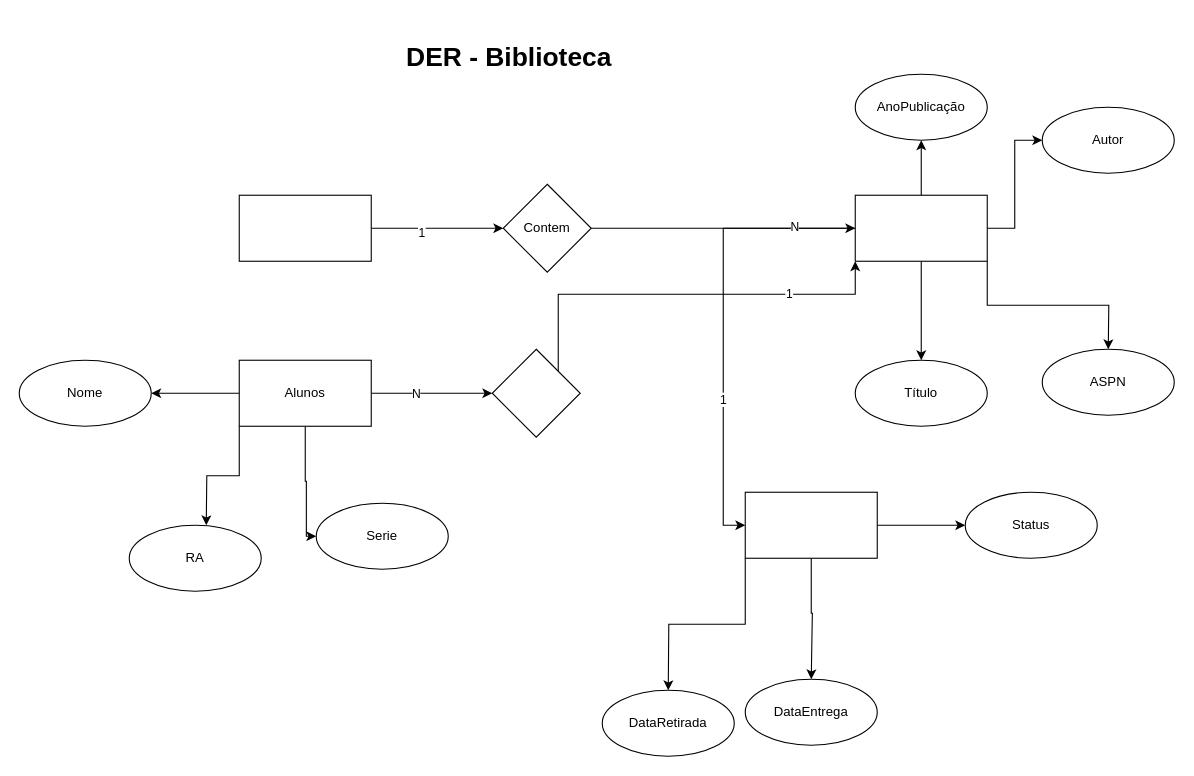
The diagram is 1194 pixels wide and 776 high, and some of its shapes have lost their labels. Here are the shapes that lost their labels. From the top down, the centre of each, then its label:
the point at 304,227: Biblioteca
the point at 920,227: LIVRO
the point at 535,392: Pegar
the point at 810,524: Emprestimo
